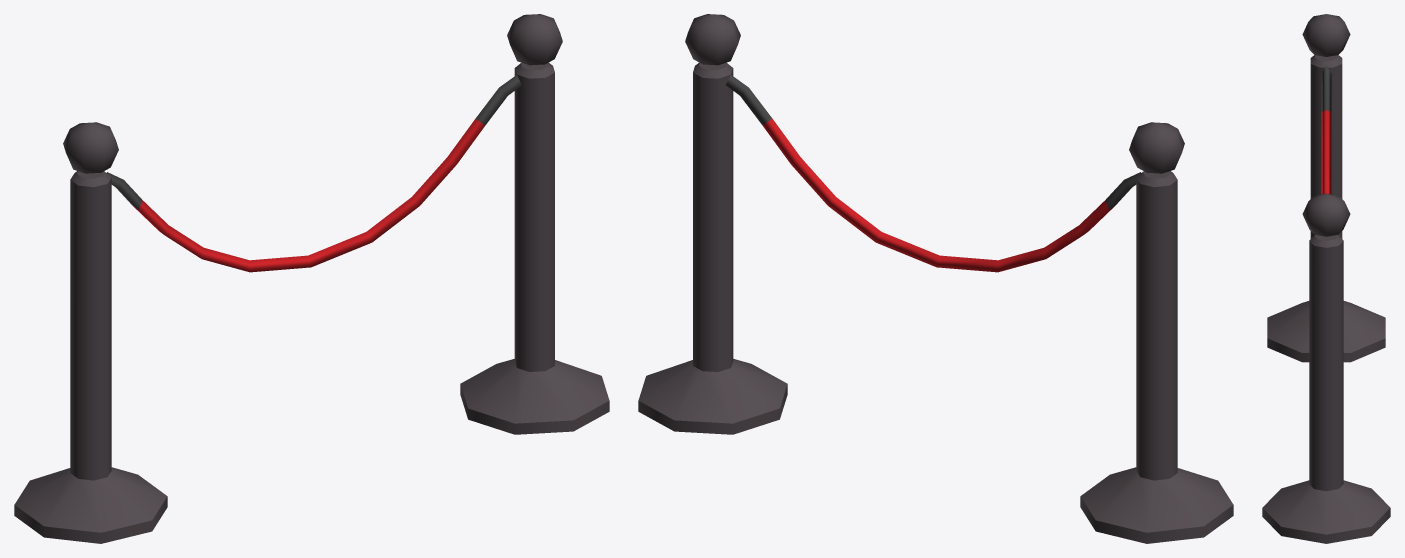
The picture shows the model from 3 angles, left to right: view 1: azimuth 30°, elevation 25°; view 2: azimuth 150°, elevation 25°; view 3: azimuth 270°, elevation 25°; orthographic projection. The views are drawn at different scales.
Parts seen in each view (by area): view 1: Sphere.012, BezierCurve.005; view 2: Sphere.012, BezierCurve.005; view 3: Sphere.012, BezierCurve.005.
Boxes of the visible parts, box(x1,y1,x2,y2) form: Sphere.012: box(14, 14, 609, 543); BezierCurve.005: box(107, 75, 521, 272); Sphere.012: box(638, 14, 1233, 543); BezierCurve.005: box(726, 75, 1140, 272); Sphere.012: box(1262, 14, 1390, 543); BezierCurve.005: box(1321, 65, 1331, 194).
Size of the model in its own units: 746 by 174 by 484.
